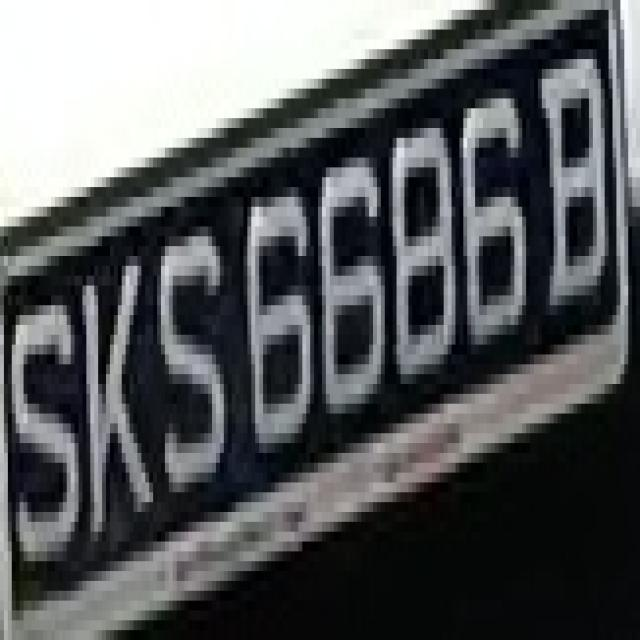6: (302, 148, 393, 443), (455, 79, 534, 374), (244, 158, 310, 482)
8: (385, 108, 467, 384)
B: (526, 39, 617, 315)
K: (75, 236, 157, 542)
S: (146, 227, 240, 482), (8, 256, 78, 581)
